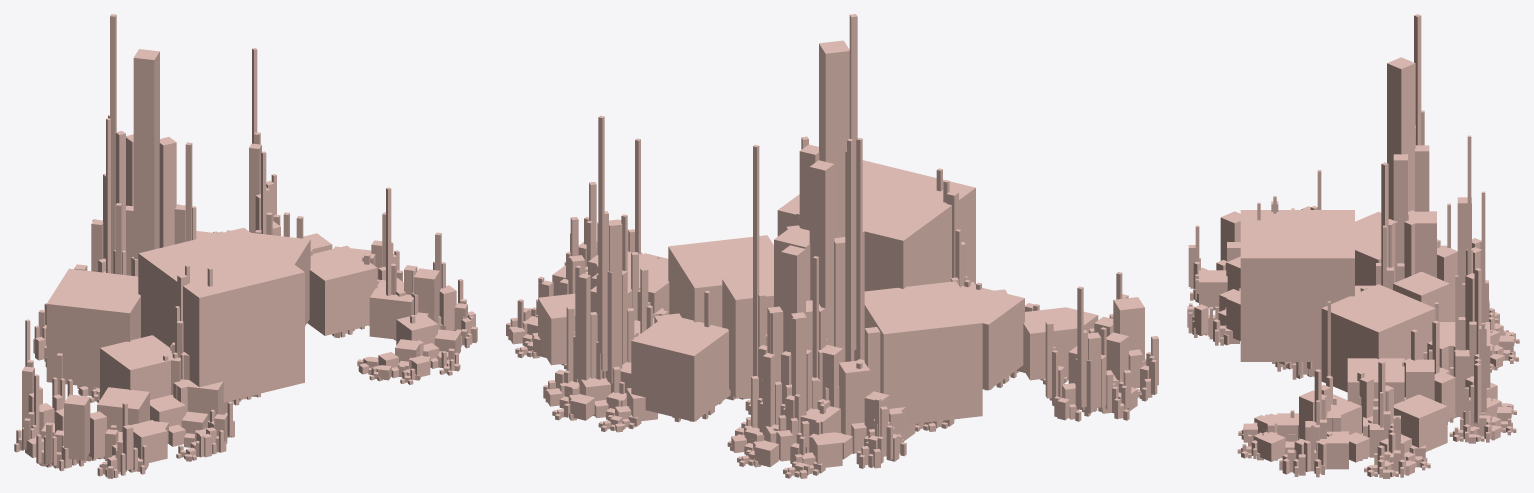
Rendered from fractal_dragon.glb.
3 renders of one model, left to right at view 1: azimuth 30°, elevation 25°; view 2: azimuth 150°, elevation 25°; view 3: azimuth 270°, elevation 25°, orthographic. The views are drawn at different scales.
Visible parts, largest first — view 1: Object_2; view 2: Object_2; view 3: Object_2.
Part boxes in pixels (box(x1,y1,x2,y2)): Object_2: box(14, 14, 477, 478); Object_2: box(506, 14, 1158, 478); Object_2: box(1187, 14, 1519, 478).
Bounding box in the file's own units: 4.41 × 3.16 × 2.91.
